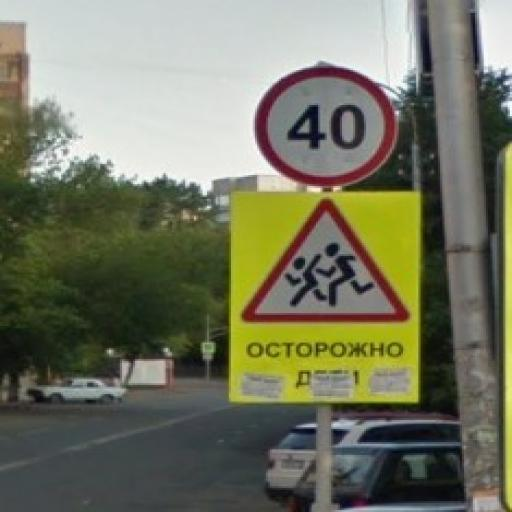traffic_sign: (241, 198, 413, 323), (254, 65, 400, 187)
